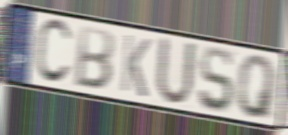B: (72, 24, 117, 93)
C: (33, 17, 74, 87)
K: (119, 31, 153, 100)
Q: (236, 54, 279, 122)
S: (196, 45, 235, 115)
U: (153, 34, 198, 109)
